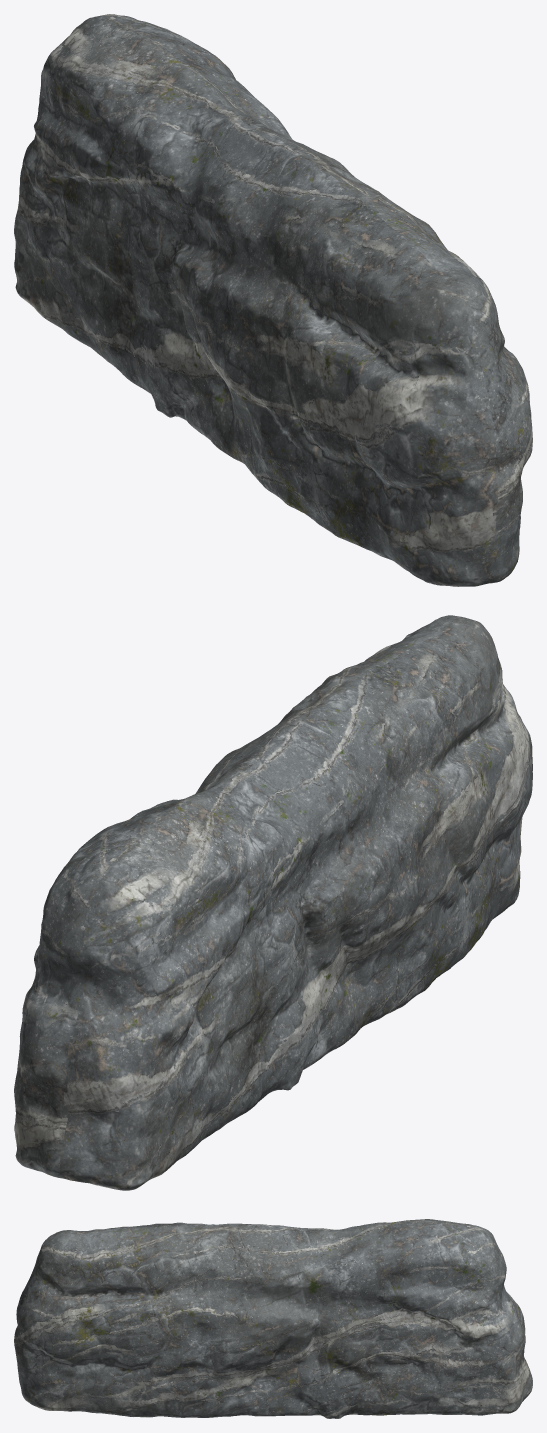
File: SM_Cliff_02.fbx
3 renders of one model, top to bottom at view 1: azimuth 30°, elevation 25°; view 2: azimuth 150°, elevation 25°; view 3: azimuth 270°, elevation 25°, orthographic. The views are drawn at different scales.
Parts seen in each view (by area): view 1: SM_Cliff_02_LOD0; view 2: SM_Cliff_02_LOD0; view 3: SM_Cliff_02_LOD0.
Part boxes in pixels (x1=…): SM_Cliff_02_LOD0: x1=14, y1=14, x2=532, y2=586; SM_Cliff_02_LOD0: x1=14, y1=615, x2=532, y2=1190; SM_Cliff_02_LOD0: x1=14, y1=1219, x2=532, y2=1418.
Bounding box in the file's own units: 342 × 1398 × 535.
1 material, 1 textured.
